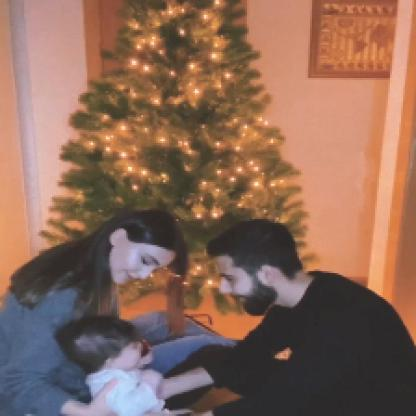child: (53, 317, 172, 416)
